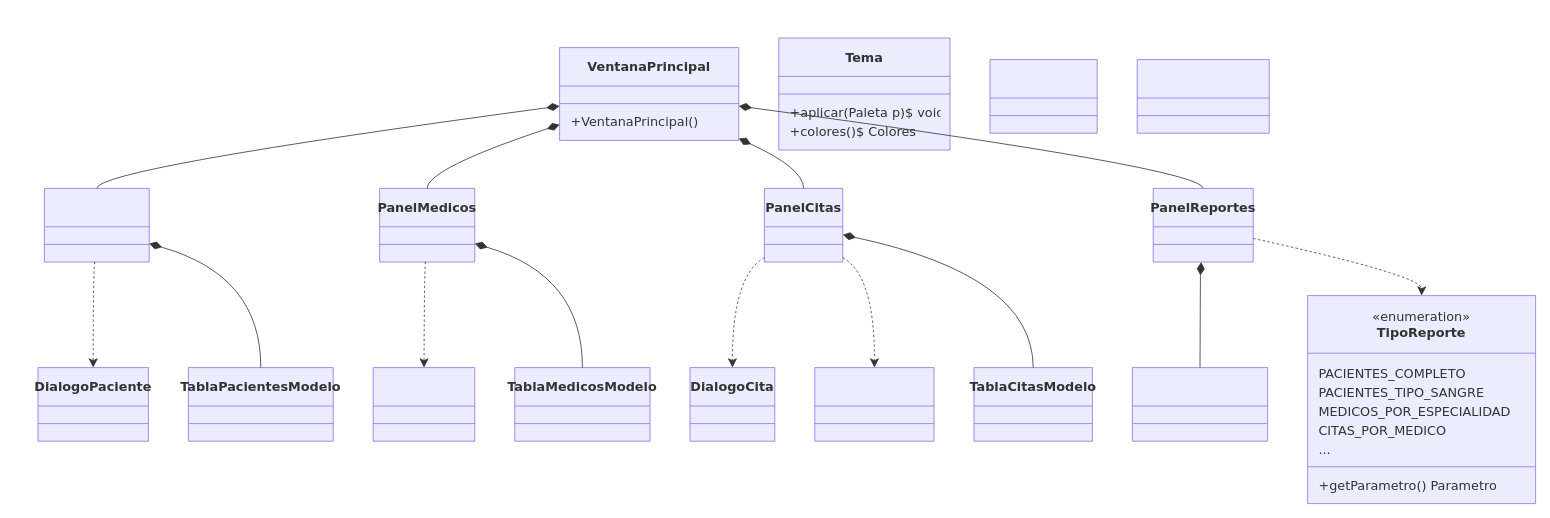
The diagram is 1550 pixels wide and 518 high, and some of its shapes have lost their labels. The shapes that lost their labels are listed below. From the top down, each one's centre as x and y in pixels, then its label:
At (1043,96): "BotonEstilizado".
At (1202,96): "RenderTablaAlterno".
At (96,225): "PanelPacientes".
At (423,404): "DialogoMedico".
At (874,404): "DialogoEditarCita".
At (1200,404): "TablaReporteModelo".
